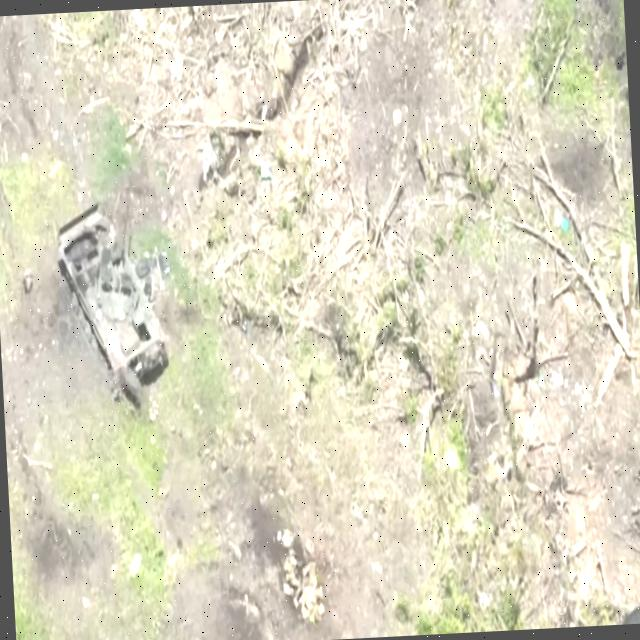AIFV: (54, 194, 178, 415)
